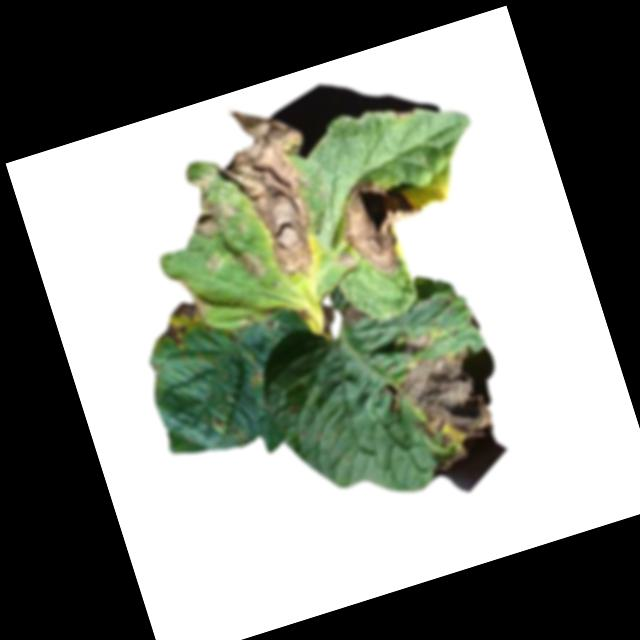Early_blight: (201, 92, 346, 291), (390, 344, 503, 480), (330, 166, 436, 284), (180, 166, 244, 243), (151, 299, 208, 351), (237, 247, 268, 283), (404, 329, 438, 356), (338, 300, 368, 329), (317, 303, 342, 337), (335, 250, 359, 271), (206, 255, 224, 274)
